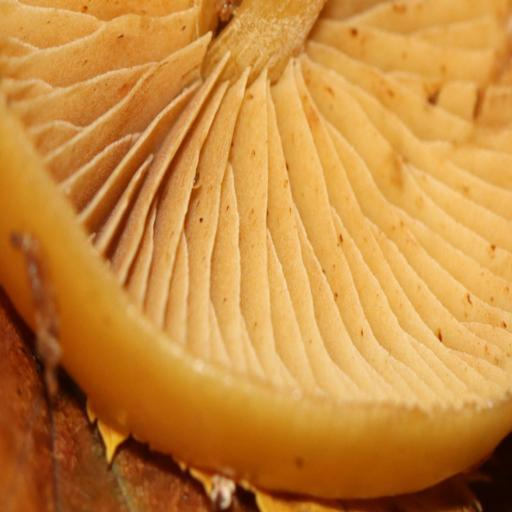mushroom: (3, 3, 511, 500)
